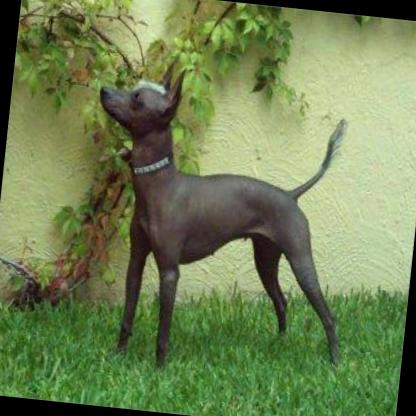Mexican_hairless: (69, 58, 367, 383)
